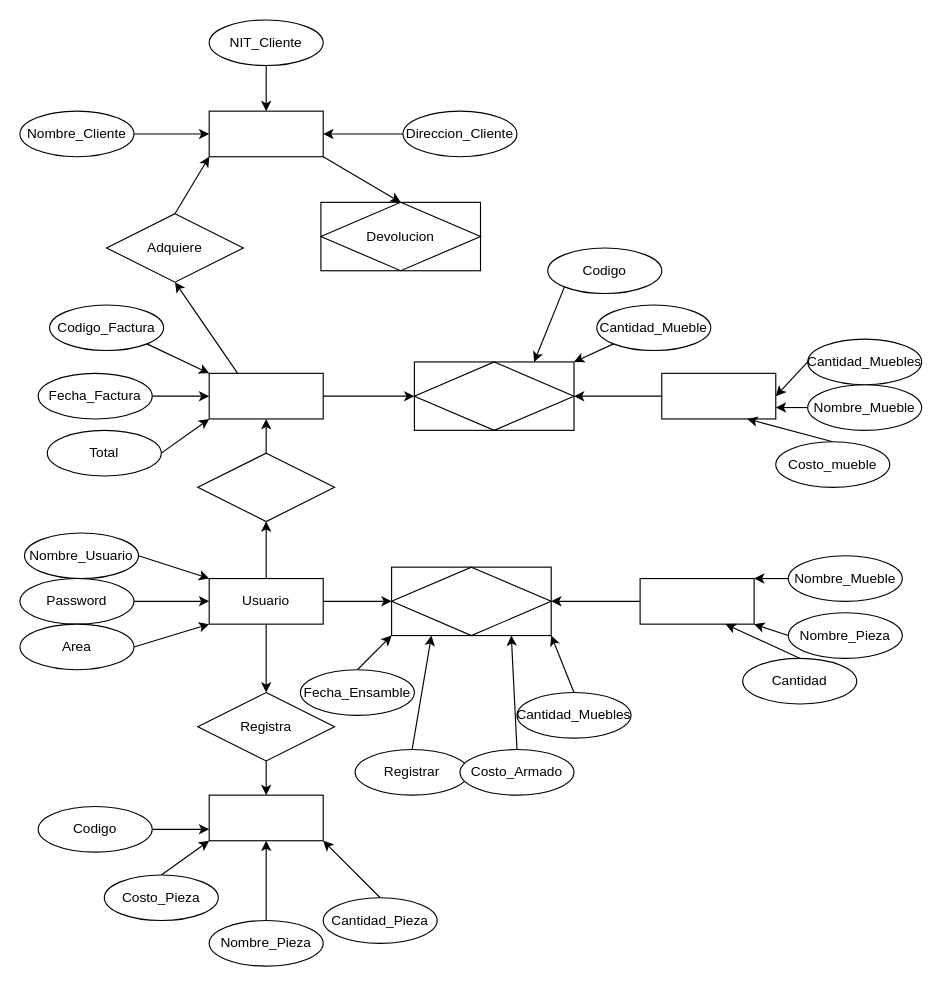
Some shapes in this 942 by 986 pixel diagram are drawn without their labels. Each missing label, with the box of its shape:
Cliente: (208, 110, 323, 157)
Detalle_factura: (413, 361, 574, 430)
Detalles_Armado: (639, 577, 754, 624)
ensambla: (390, 566, 551, 636)
Factura_Venta: (208, 372, 323, 419)
Genera: (197, 452, 335, 522)
Mueble: (661, 372, 776, 419)
Pieza: (208, 794, 323, 841)
